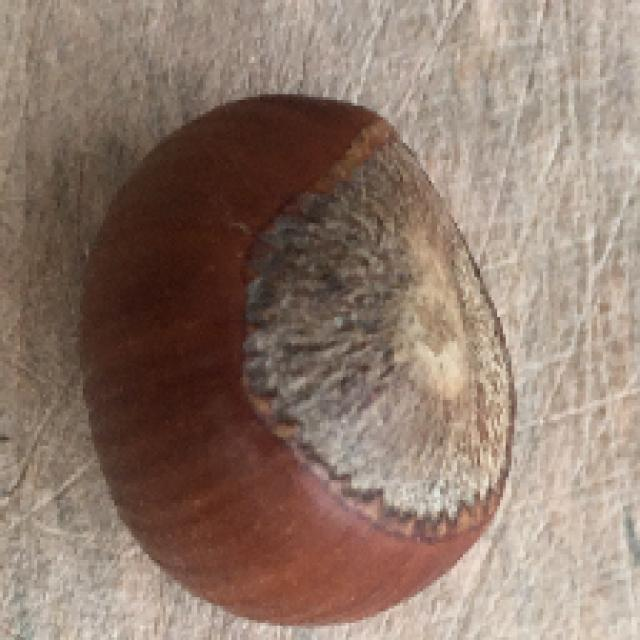damagedHazelnut: (89, 75, 517, 636)
